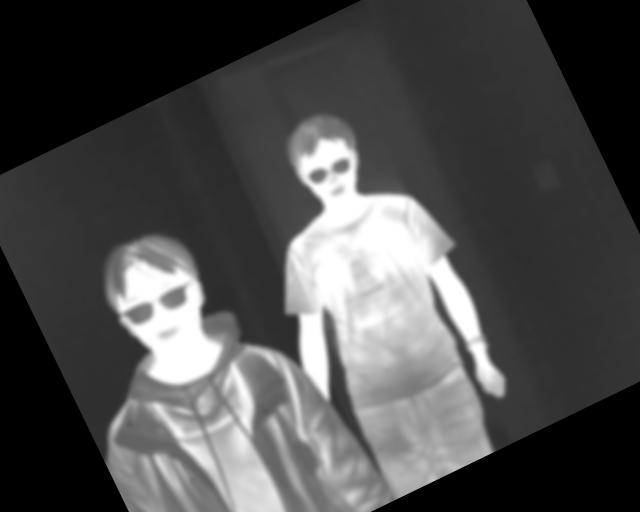face: (86, 216, 227, 371), (275, 102, 377, 217)
